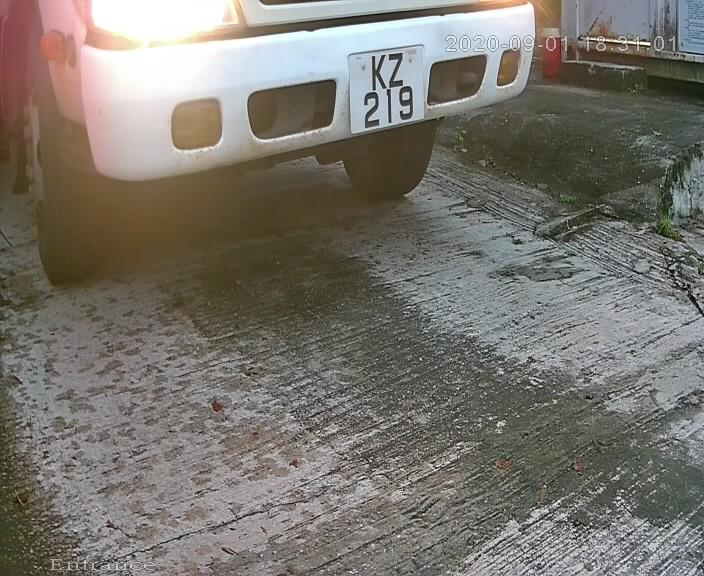License Plate: (334, 34, 437, 147)
